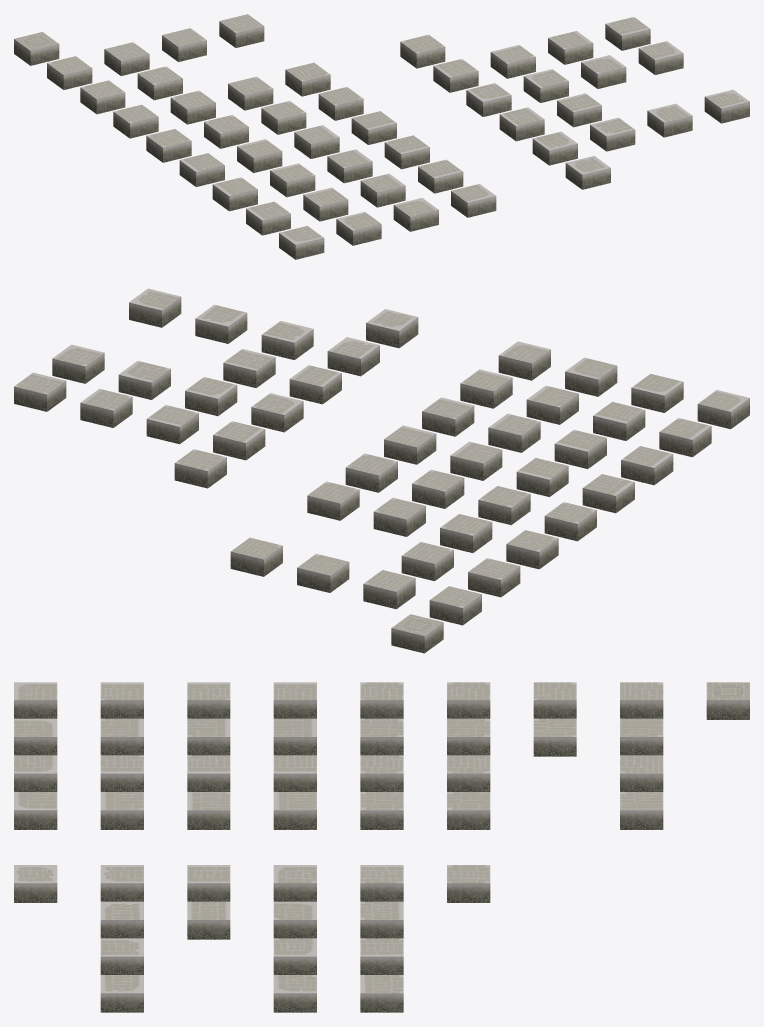
File: Street.fbx
3 renders of one model, top to bottom at view 1: azimuth 30°, elevation 25°; view 2: azimuth 150°, elevation 25°; view 3: azimuth 270°, elevation 25°, orthographic. The views are drawn at different scales.
Visible parts, largest first — view 1: Street-8, Street-16, Street-23, Street-29, Street-0, Street-5, Street-46, Street-12, Street-40, Street-19, Street-22, Street-25 (+35 smaller); view 2: Street-40, Street-35, Street-3, Street-4, Street-6, Street-7, Street-46, Street-13, Street-43, Street-45, Street-18, Street-19 (+35 smaller); view 3: Street-6, Street-41, Street-0, Street-4, Street-10, Street-46, Street-15, Street-12, Street-14, Street-45, Street-19, Street-23 (+35 smaller).
Boxes of the visible parts, x1=… form: Street-8: x1=523, y1=69, x2=568, y2=102; Street-16: x1=279, y1=226, x2=324, y2=259; Street-23: x1=418, y1=159, x2=463, y2=193; Street-29: x1=237, y1=139, x2=282, y2=172; Street-0: x1=565, y1=156, x2=610, y2=189; Street-5: x1=499, y1=107, x2=544, y2=141; Street-46: x1=14, y1=32, x2=59, y2=65; Street-12: x1=490, y1=45, x2=535, y2=78; Street-40: x1=80, y1=80, x2=125, y2=114; Street-19: x1=451, y1=184, x2=496, y2=217; Street-22: x1=360, y1=173, x2=405, y2=207; Street-25: x1=270, y1=163, x2=315, y2=197; Street-40: x1=468, y1=558, x2=520, y2=597; Street-35: x1=345, y1=453, x2=397, y2=492; Street-3: x1=195, y1=304, x2=247, y2=343; Street-4: x1=129, y1=288, x2=181, y2=327; Street-6: x1=223, y1=349, x2=275, y2=388; Street-7: x1=251, y1=393, x2=303, y2=432; Street-46: x1=391, y1=614, x2=443, y2=653; Street-13: x1=80, y1=388, x2=132, y2=427; Street-43: x1=363, y1=570, x2=415, y2=609; Street-45: x1=230, y1=537, x2=282, y2=576; Street-18: x1=565, y1=357, x2=617, y2=396; Street-19: x1=498, y1=341, x2=550, y2=380; Street-6: x1=187, y1=901, x2=230, y2=939; Street-41: x1=533, y1=718, x2=576, y2=756; Street-0: x1=14, y1=865, x2=57, y2=902; Street-4: x1=100, y1=975, x2=143, y2=1012; Street-10: x1=273, y1=975, x2=316, y2=1012; Street-46: x1=706, y1=682, x2=749, y2=719; Street-15: x1=447, y1=865, x2=490, y2=902; Street-12: x1=360, y1=901, x2=403, y2=938; Street-14: x1=360, y1=975, x2=403, y2=1012; Street-45: x1=620, y1=792, x2=663, y2=829; Street-19: x1=14, y1=792, x2=57, y2=829; Street-23: x1=100, y1=792, x2=143, y2=829.
Bounding box in the file's own units: 8500 × 250 × 8500.
Materials: 2 (2 with a texture image).
